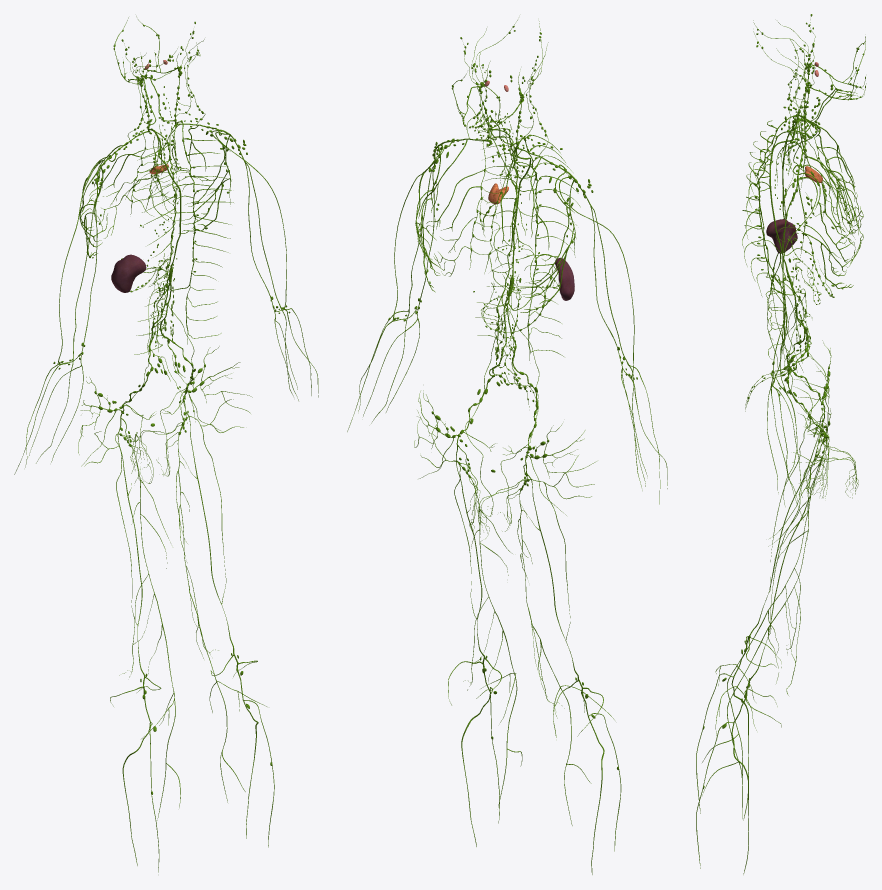
Rendered from lymphatic.glb.
3 renders of one model, left to right at view 1: azimuth 30°, elevation 25°; view 2: azimuth 150°, elevation 25°; view 3: azimuth 270°, elevation 25°, orthographic. The views are drawn at different scales.
Visible parts, largest first — view 1: Femoral group of lymph vessels, L#male~020065, Femoral group of lymph vessels, R#male~020008, Intercostal lymph vessels, R#~020404, Intercostal lymph vessels, L#~020177, Spleen#~001585, Ulnar group of lymph vessels, L#~020126, Anterior axillary (pectoral) lymph vessels, R#Male~020204, Ulnar group of lymph vessels, R#~020201; view 2: Femoral group of lymph vessels, L#male~020065, Femoral group of lymph vessels, R#male~020008, Intercostal lymph vessels, L#~020177, Anterior axillary (pectoral) lymph vessels, L#Male~020127, Ulnar group of lymph vessels, L#~020126, Ulnar group of lymph vessels, R#~020201, Intercostal lymph vessels, R#~020404, Anterior axillary (pectoral) lymph vessels, R#Male~020204; view 3: Femoral group of lymph vessels, R#male~020008, Femoral group of lymph vessels, L#male~020065, Intercostal lymph vessels, R#~020404, Anterior axillary (pectoral) lymph vessels, R#Male~020204, Ulnar group of lymph vessels, R#~020201, Spleen#~001585, Anterior axillary (pectoral) lymph vessels, L#Male~020127, Intercostal lymph vessels, L#~020177, Radial group of lymph vessels, R#~020202, Ulnar group of lymph vessels, L#~020126, Fibular group of lymph vessels, R#~020006, Fibular group of lymph vessels, L#~020064.
Boxes of the visible parts, x1,y1,x2,y2 form: Femoral group of lymph vessels, L#male~020065: (110, 433, 175, 745); Femoral group of lymph vessels, R#male~020008: (176, 415, 266, 731); Intercostal lymph vessels, R#~020404: (172, 121, 233, 344); Intercostal lymph vessels, L#~020177: (134, 128, 178, 354); Spleen#~001585: (111, 254, 146, 292); Ulnar group of lymph vessels, L#~020126: (29, 197, 97, 463); Anterior axillary (pectoral) lymph vessels, R#Male~020204: (162, 128, 231, 233); Ulnar group of lymph vessels, R#~020201: (244, 161, 298, 400); Femoral group of lymph vessels, L#male~020065: (517, 478, 614, 739); Femoral group of lymph vessels, R#male~020008: (448, 460, 517, 725); Intercostal lymph vessels, L#~020177: (513, 135, 580, 360); Anterior axillary (pectoral) lymph vessels, L#Male~020127: (502, 164, 575, 312); Ulnar group of lymph vessels, L#~020126: (590, 204, 647, 490); Ulnar group of lymph vessels, R#~020201: (363, 166, 434, 423); Intercostal lymph vessels, R#~020404: (475, 128, 521, 353); Anterior axillary (pectoral) lymph vessels, R#Male~020204: (415, 138, 454, 292); Femoral group of lymph vessels, R#male~020008: (715, 456, 822, 742); Femoral group of lymph vessels, L#male~020065: (715, 421, 822, 711); Intercostal lymph vessels, R#~020404: (742, 130, 800, 359); Anterior axillary (pectoral) lymph vessels, R#Male~020204: (793, 164, 859, 288); Ulnar group of lymph vessels, R#~020201: (767, 212, 802, 500); Spleen#~001585: (766, 219, 797, 253); Anterior axillary (pectoral) lymph vessels, L#Male~020127: (793, 114, 859, 245); Intercostal lymph vessels, L#~020177: (742, 115, 799, 339); Radial group of lymph vessels, R#~020202: (772, 177, 817, 520); Ulnar group of lymph vessels, L#~020126: (767, 139, 802, 372); Fibular group of lymph vessels, R#~020006: (696, 722, 748, 874); Fibular group of lymph vessels, L#~020064: (696, 673, 748, 820).
Size of the model in its own units: 1.58 by 4.11 by 0.7762.
4 materials, 4 textured.
